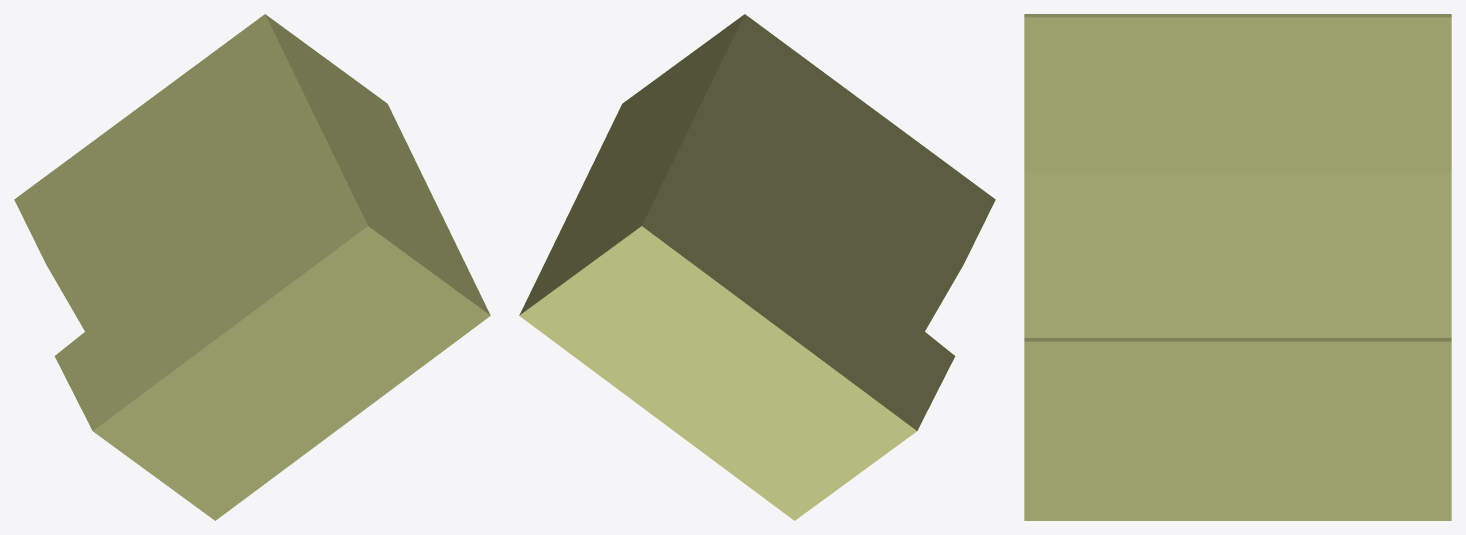
The picture shows the model from 3 angles, left to right: view 1: azimuth 30°, elevation 25°; view 2: azimuth 150°, elevation 25°; view 3: azimuth 270°, elevation 25°; orthographic projection. The views are drawn at different scales.
Visible parts, largest first — view 1: 0_1_0_2_1_3_3_2_1_0; view 2: 0_1_0_2_1_3_3_2_1_0; view 3: 0_1_0_2_1_3_3_2_1_0.
Boxes of the visible parts, left/top/right/bottom form: 0_1_0_2_1_3_3_2_1_0: left=14, top=14, right=490, bottom=520; 0_1_0_2_1_3_3_2_1_0: left=519, top=14, right=995, bottom=520; 0_1_0_2_1_3_3_2_1_0: left=1024, top=14, right=1451, bottom=520.
Size of the model in its own units: 10 by 10.12 by 6.
